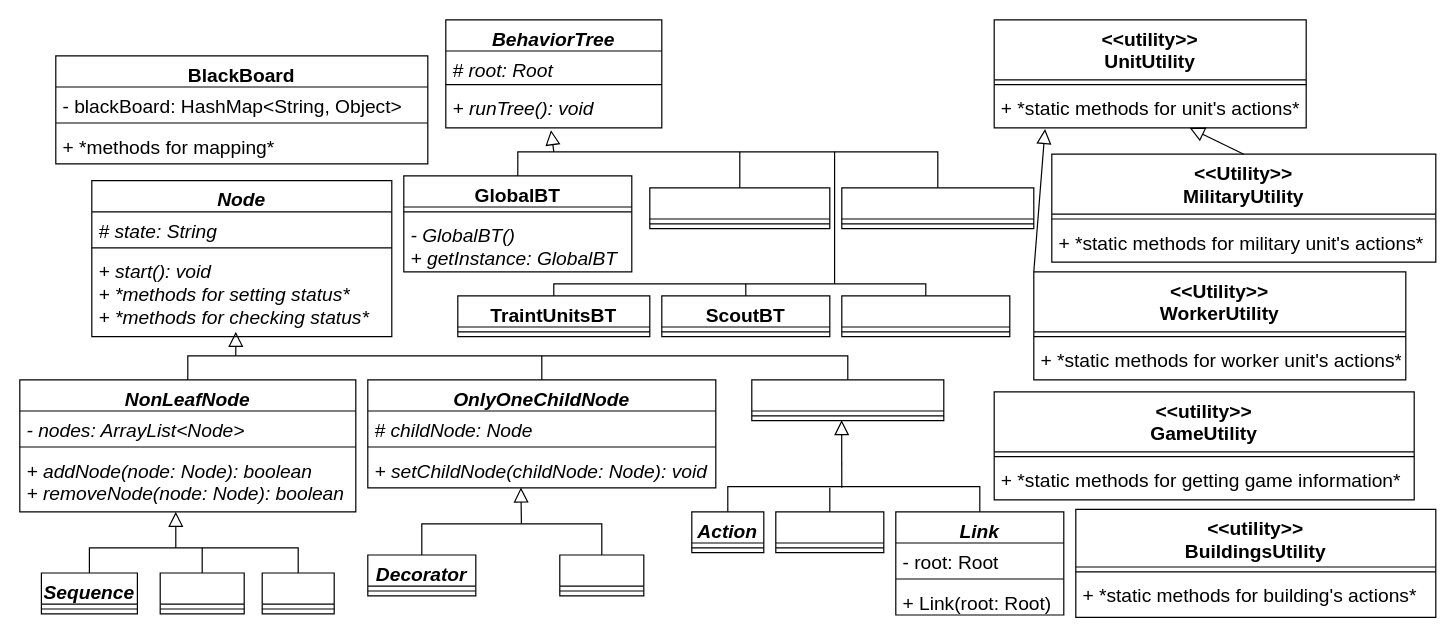
Some shapes in this 1456 by 637 pixel diagram are drawn without their labels. Here are the shapes that lost their labels. From the top down, the centre of each, then its label:
At point (739, 208): "DefaultBT".
At point (937, 208): "BuildBaseBT".
At point (925, 316): "AttackBT".
At point (847, 400): "LeafNode".
At point (829, 532): "Condition".
At point (201, 593): "Selector".
At point (297, 593): "Parallel".
At point (601, 575): "Root".
